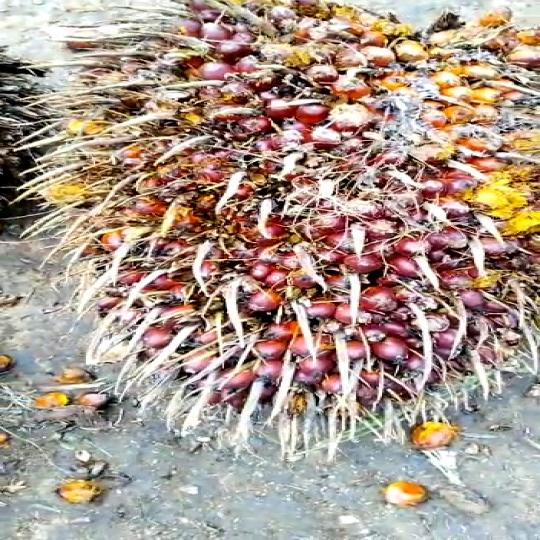masak: (56, 0, 540, 447)
